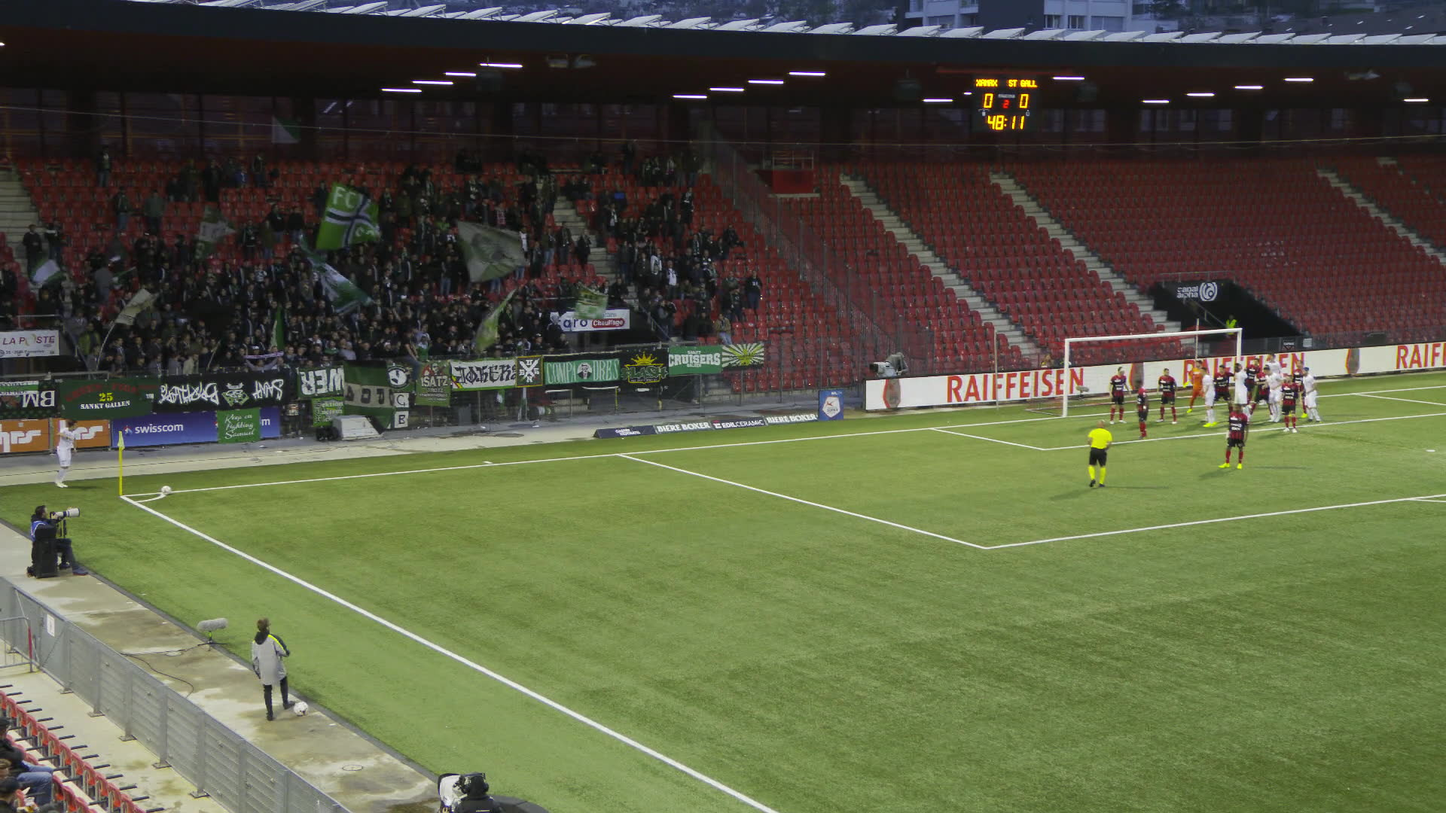ball: (160, 485, 170, 494)
player: (1218, 403, 1249, 469), (1202, 364, 1234, 421), (53, 420, 78, 487), (1248, 362, 1274, 419), (1278, 374, 1302, 432), (1184, 356, 1208, 412), (1107, 366, 1130, 423), (1258, 352, 1283, 404), (1155, 367, 1177, 423), (1198, 367, 1218, 426), (1300, 364, 1319, 423), (1263, 366, 1282, 422), (1233, 362, 1249, 424), (1289, 360, 1306, 417), (1133, 379, 1149, 439), (1243, 357, 1260, 407)
referee: (1085, 419, 1111, 488)
